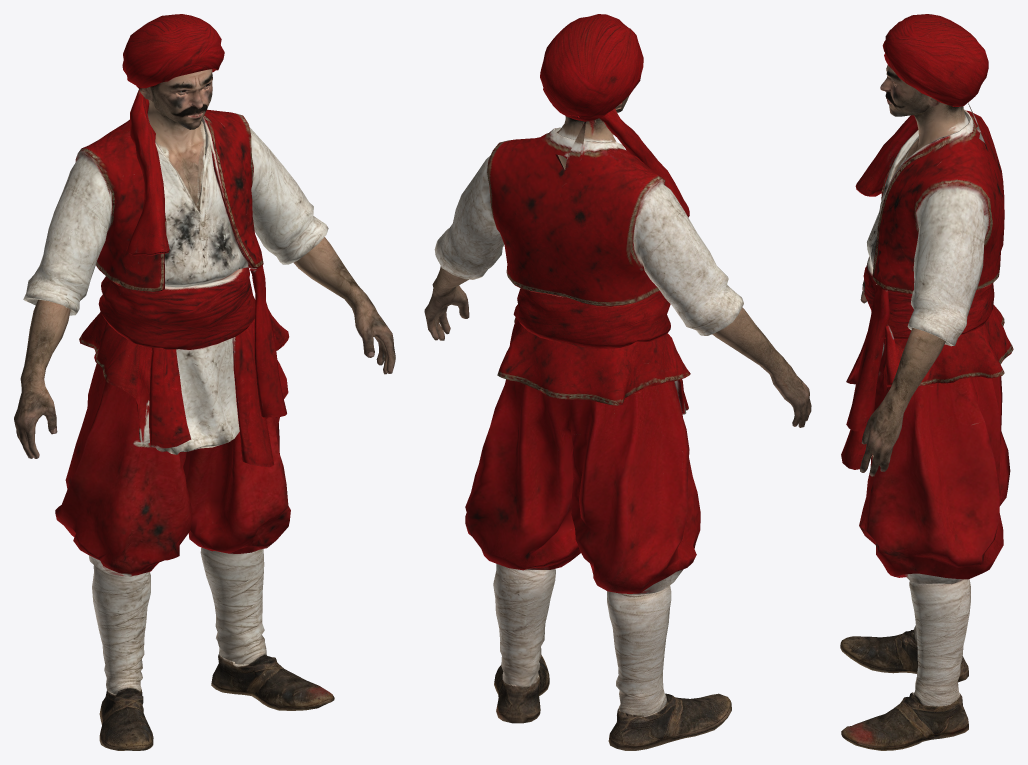
Rendered from Meshy_AI_model.glb.
3 views of the same model, side by side, from view 1: azimuth 30°, elevation 25°; view 2: azimuth 150°, elevation 25°; view 3: azimuth 270°, elevation 25° (orthographic). The views are drawn at different scales.
Size of the model in its own units: 0.565 by 0.9984 by 0.232.
1 material, 1 textured.
